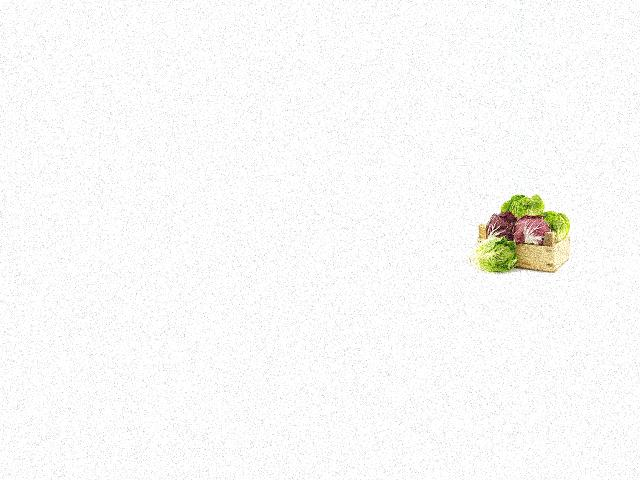lettuce: (500, 194, 544, 224)
